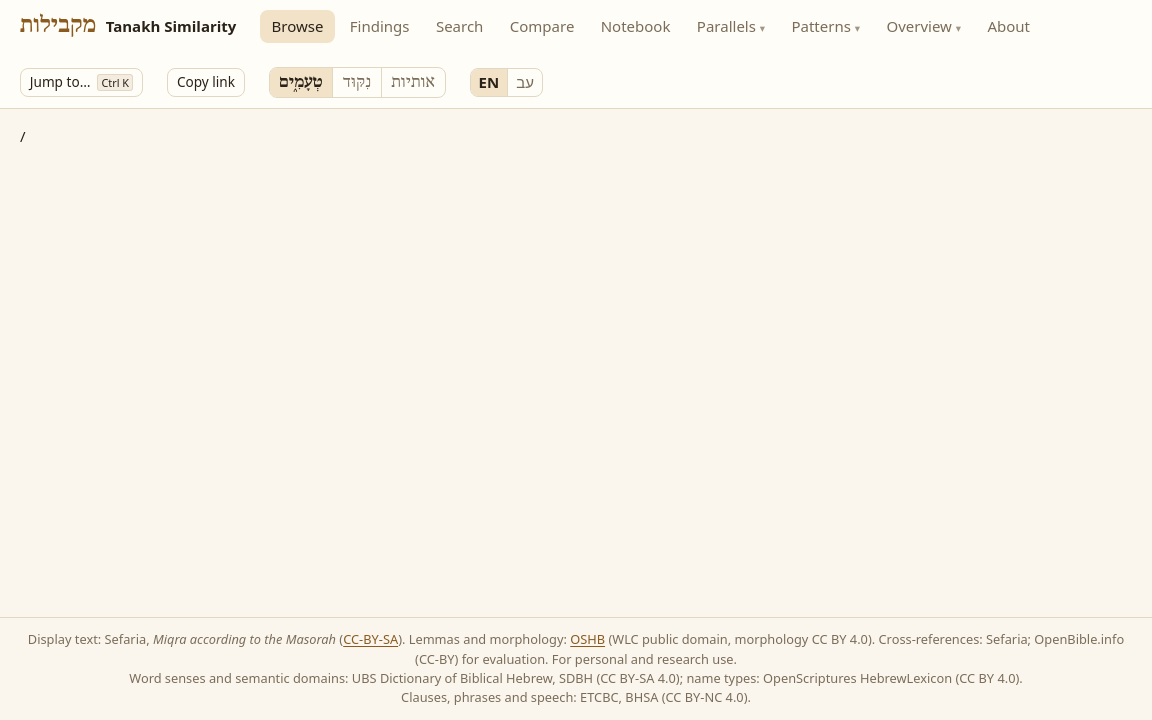
Test: Layout navigation › groups pages into menus that open, navigate and close
The width and height of the screenshot is (1152, 720).
Click the button "Parallels ▾": (731, 26) top-left (686, 10), bottom-right (776, 43)
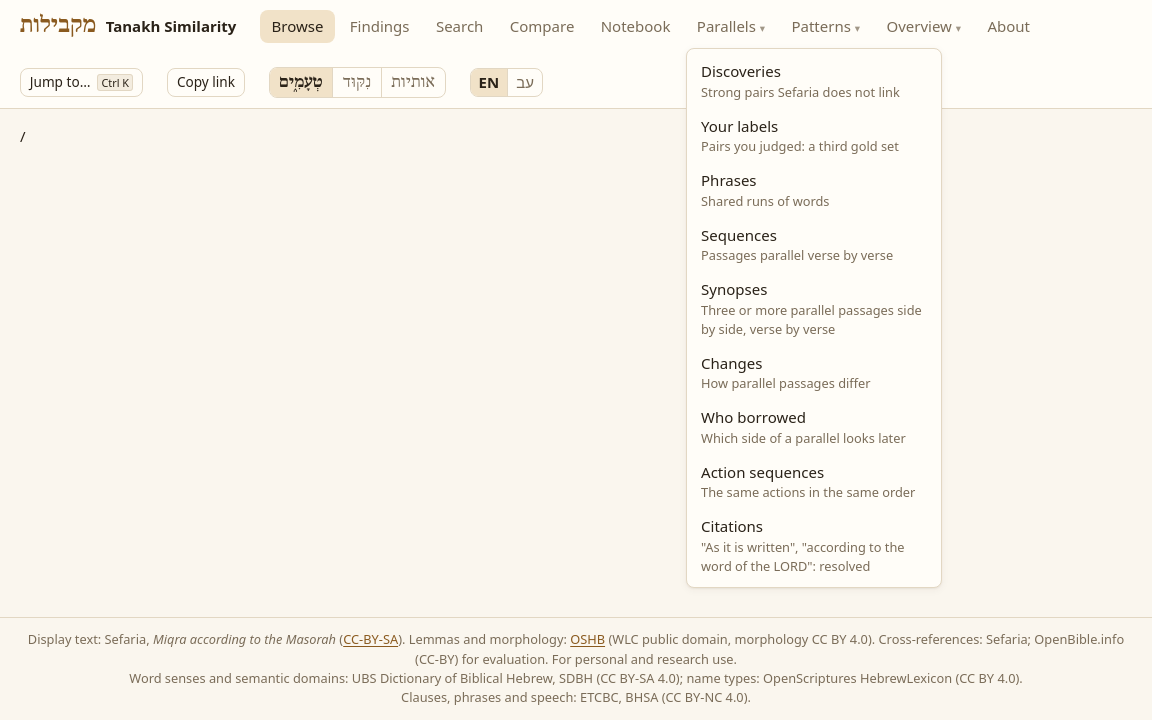
Result: the element with class "open" shows "Sequences" at top-left (692, 217), bottom-right (936, 272)
Click the link "Sequences Passages parallel verse by verse": (797, 244) top-left (701, 225), bottom-right (893, 264)
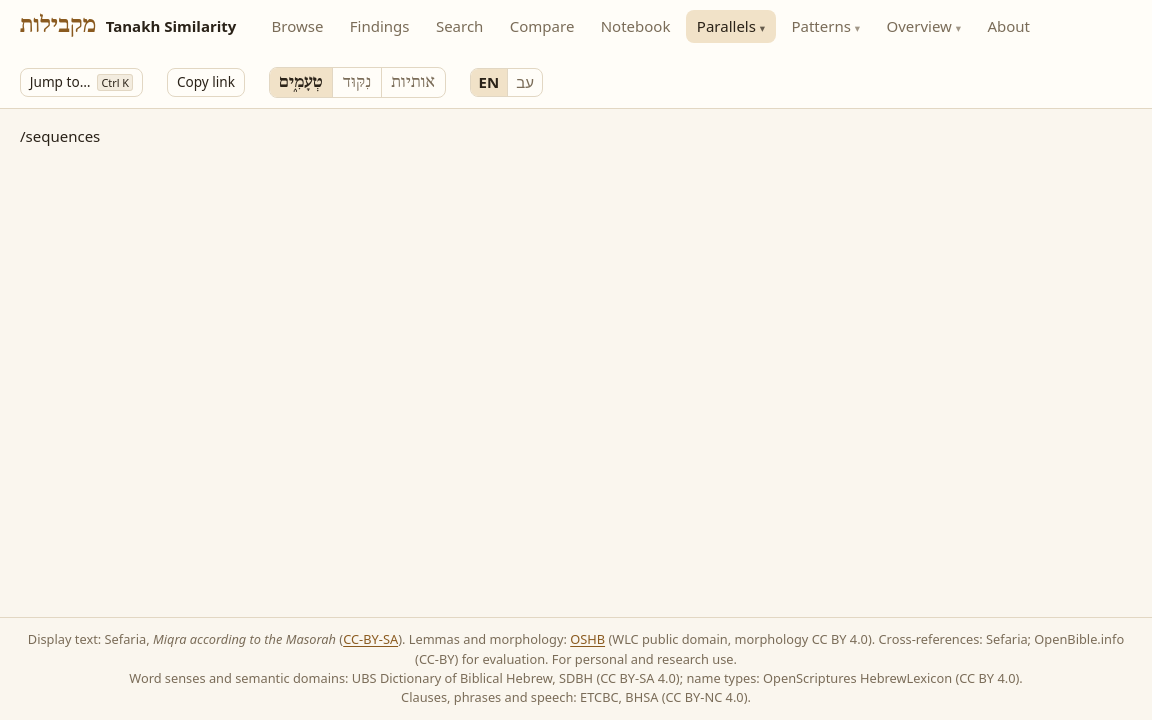
Result: the text with test id "loc" reads "/sequences" at top-left (20, 126), bottom-right (100, 146)
Result: the button "Parallels ▾" is collapsed at top-left (686, 10), bottom-right (776, 43)
